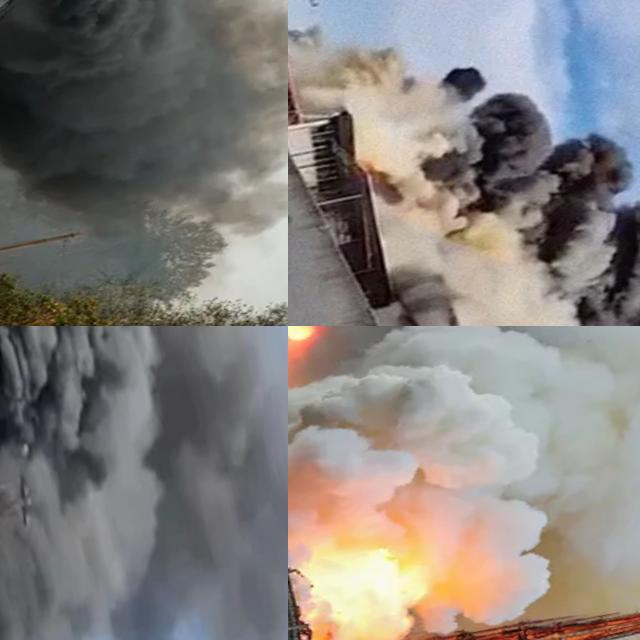smoke: (288, 0, 640, 326), (288, 326, 640, 640), (0, 326, 288, 640), (0, 0, 288, 266)
